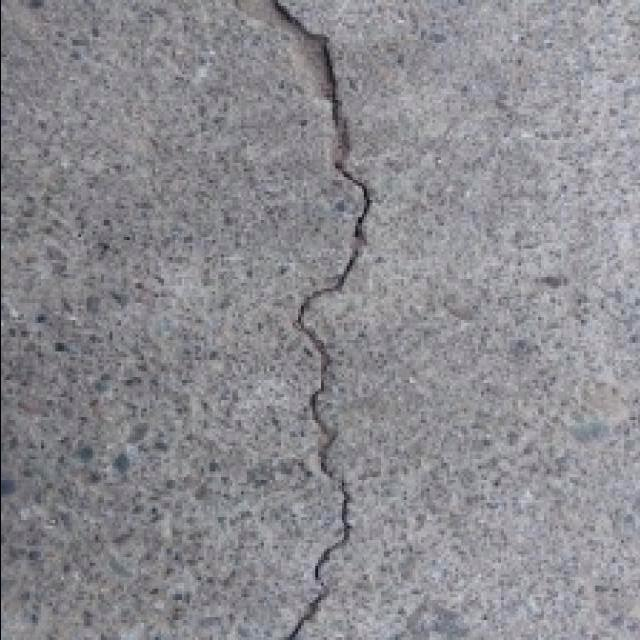SurfaceCrack: (248, 0, 392, 640)
